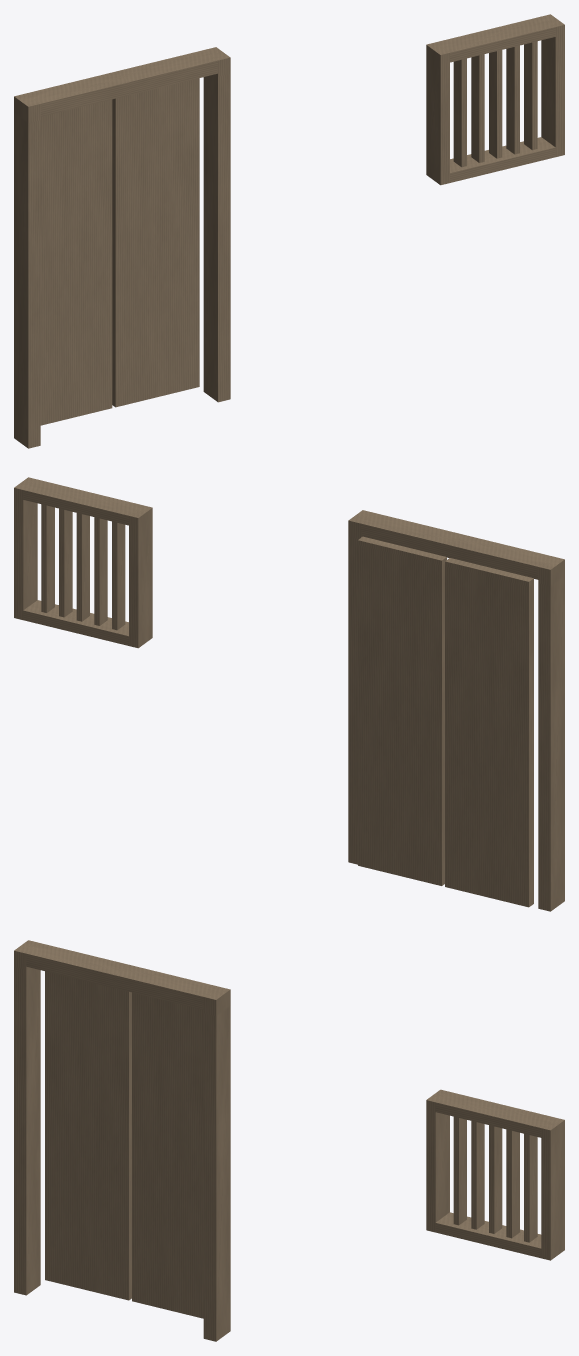
Rendered from closed-dense.glb.
3 views of the same model, one above another, from view 1: azimuth 30°, elevation 25°; view 2: azimuth 150°, elevation 25°; view 3: azimuth 330°, elevation 25° (orthographic).
Parts seen in each view (by area): view 1: door_leaf_1, door_leaf_-1, door_jamb_1, door_jamb_-1, door_head, window_jamb_-1, window_jamb_1, window_rail_1.77, window_rail_1.03, window_vertical_2, window_vertical_4, window_vertical_0 (+2 smaller); view 2: door_leaf_-1, door_leaf_1, door_jamb_-1, door_head, door_jamb_1, window_jamb_-1, window_jamb_1, window_rail_1.77, window_rail_1.03, window_vertical_2, window_vertical_4, window_vertical_0 (+2 smaller); view 3: door_leaf_-1, door_leaf_1, door_jamb_1, door_jamb_-1, door_head, window_jamb_1, window_jamb_-1, window_rail_1.77, window_rail_1.03, window_vertical_0, window_vertical_3, window_vertical_4 (+2 smaller).
Boxes of the visible parts, x1,y1,x2,y2 form: door_leaf_1: (112,78,199,407); door_leaf_-1: (40,99,112,425); door_jamb_1: (203,47,230,402); door_jamb_-1: (14,93,40,448); door_head: (27,50,217,116); window_jamb_-1: (426,42,449,185); window_jamb_1: (541,14,564,156); window_rail_1.77: (436,16,555,62); window_rail_1.03: (450,137,555,182); window_vertical_2: (489,50,502,158); window_vertical_4: (524,41,537,149); window_vertical_0: (453,58,466,167); door_leaf_-1: (445,558,533,907); door_leaf_1: (358,536,446,885); door_jamb_-1: (538,556,564,911); door_head: (361,513,551,579); door_jamb_1: (348,510,374,864); window_jamb_-1: (129,505,152,648); window_jamb_1: (14,477,37,619); window_rail_1.77: (23,479,142,525); window_rail_1.03: (23,600,128,645); window_vertical_2: (76,513,89,621); window_vertical_4: (41,504,54,612); window_vertical_0: (112,521,125,630); door_leaf_-1: (45,971,131,1300); door_leaf_1: (132,992,203,1318); door_jamb_1: (203,986,230,1341); door_jamb_-1: (14,940,40,1295); door_head: (26,943,217,1009); window_jamb_1: (541,1117,564,1260); window_jamb_-1: (426,1089,449,1232); window_rail_1.77: (435,1092,554,1137); window_rail_1.03: (435,1212,541,1258); window_vertical_0: (453,1116,466,1225); window_vertical_3: (506,1129,519,1238); window_vertical_4: (524,1133,537,1242).
Size of the model in its own units: 3.45 by 2.1 by 0.2275.
1 material, 1 textured.
